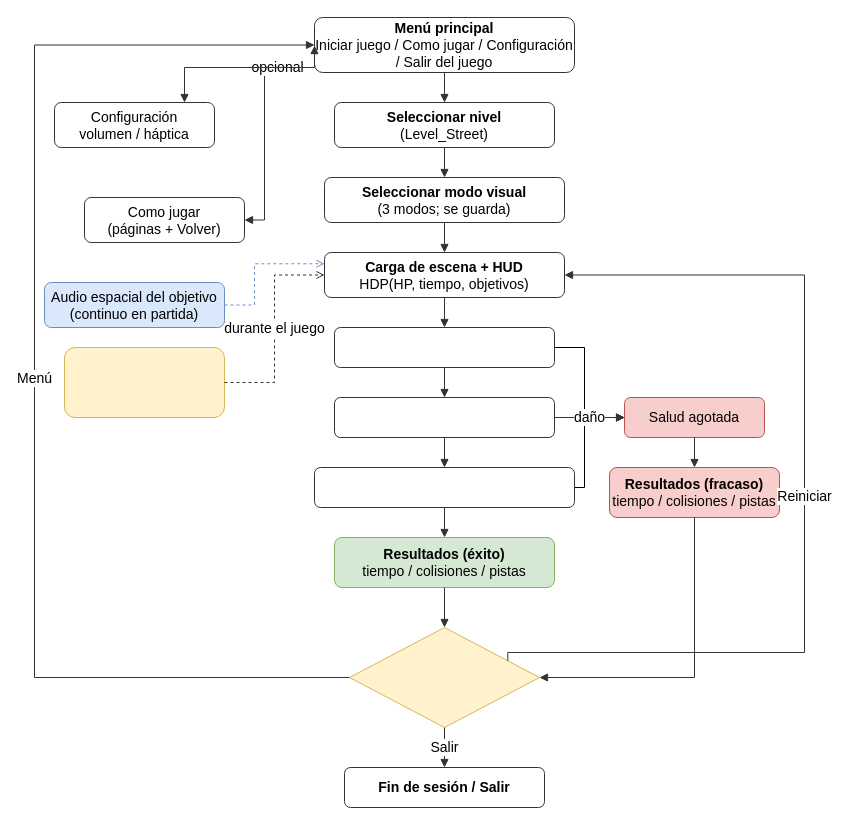
Some shapes in this 849 by 825 pixel diagram are drawn without their labels. Each missing label, with the centre of its shape:
Pausa / Continuar / Configuración / Reiniciar / Volver: the point at 144,382
task_1 — Cruzar la acera: the point at 444,347
task_2 — Cruzar el cruce: the point at 444,417
task_3 — Entrada al metro (GoalZone): the point at 444,487
¿Reiniciar escena o volver al menú?: the point at 444,677
